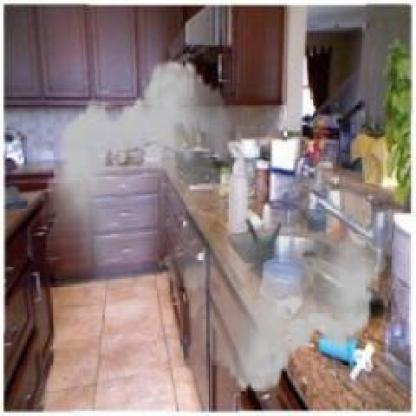Smoke: (40, 48, 392, 403)
